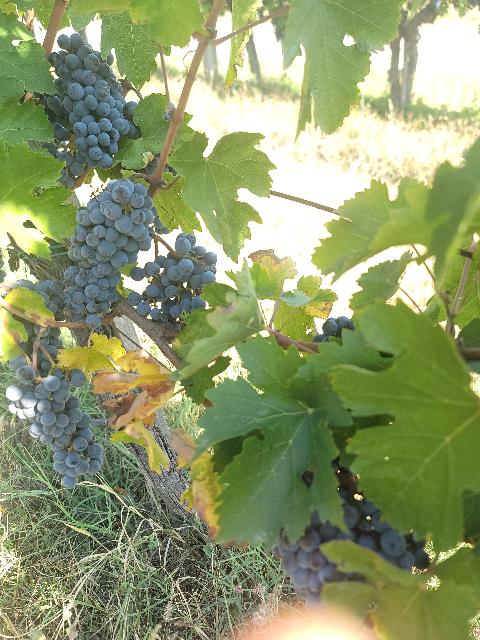grapes: (5, 345, 104, 489), (63, 179, 156, 328), (49, 34, 140, 169), (129, 234, 216, 330)
